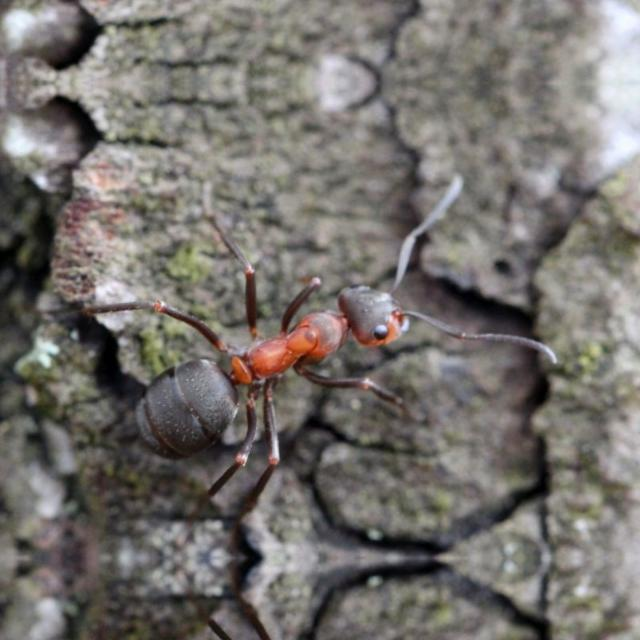Formica: (102, 241, 482, 459)
